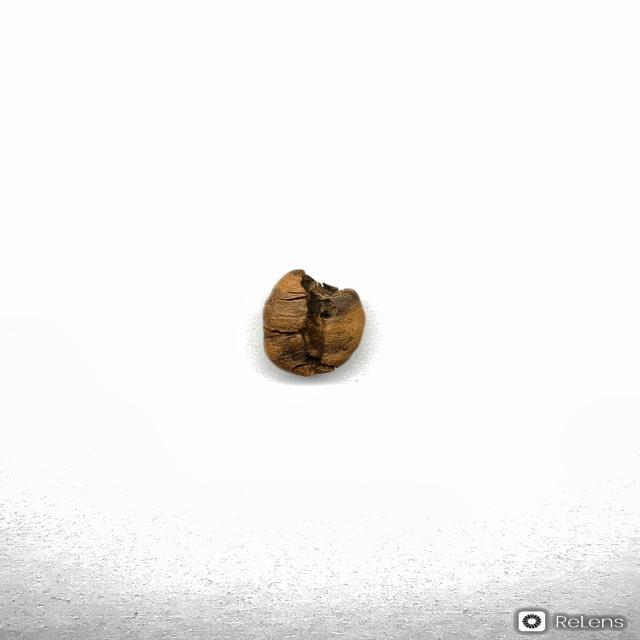Insect damage: (261, 268, 366, 377)
